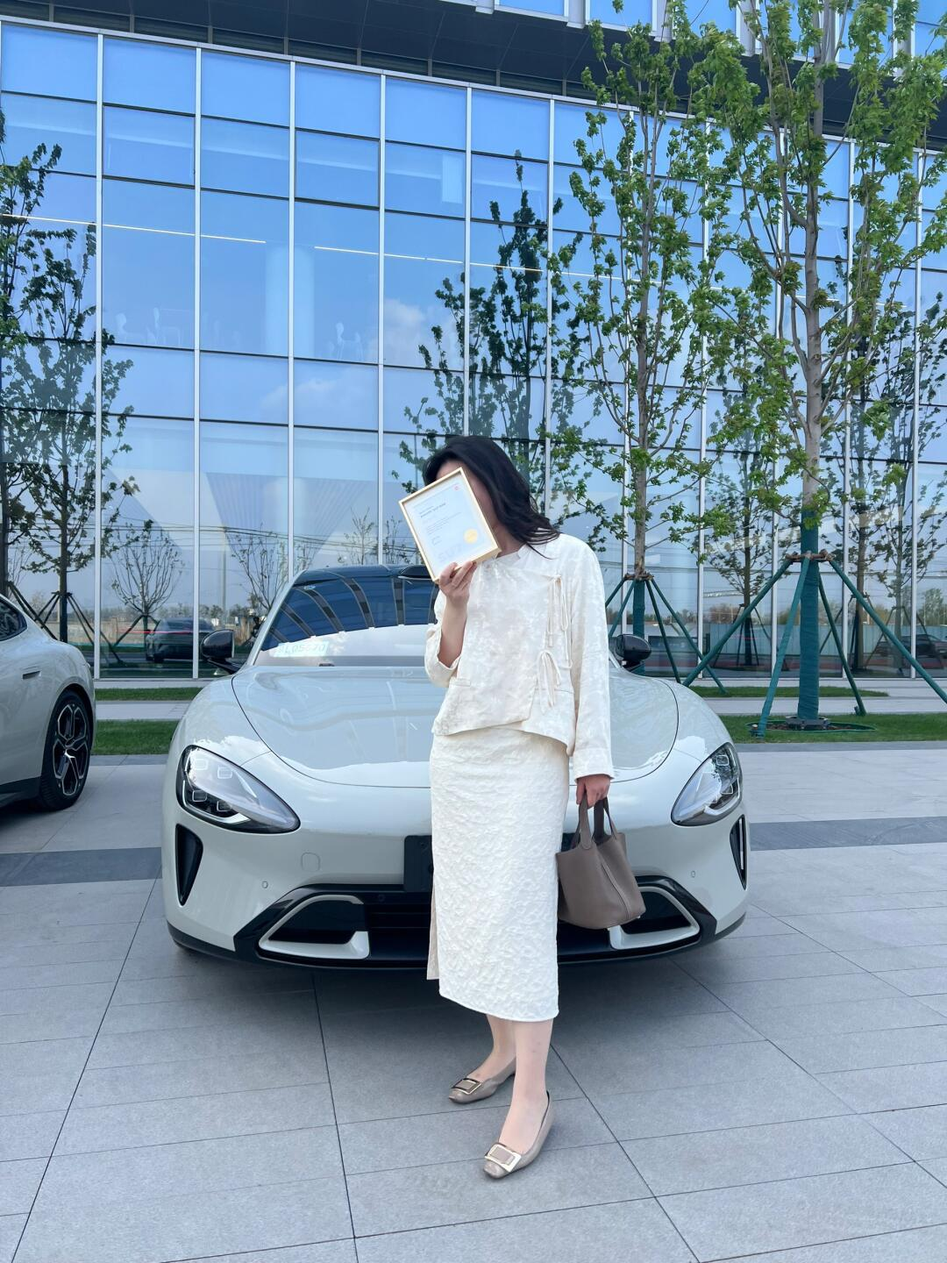su7: (150, 549, 758, 969)
